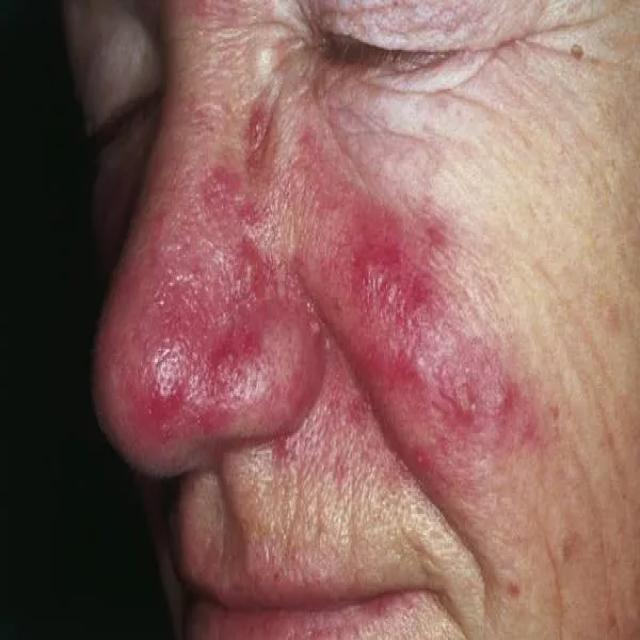Rosacea: (138, 177, 535, 488)
